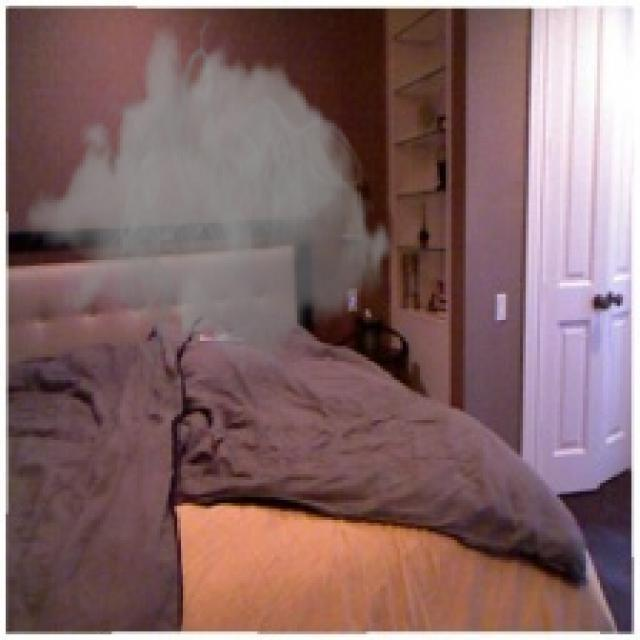Smoke: (22, 11, 394, 403)
